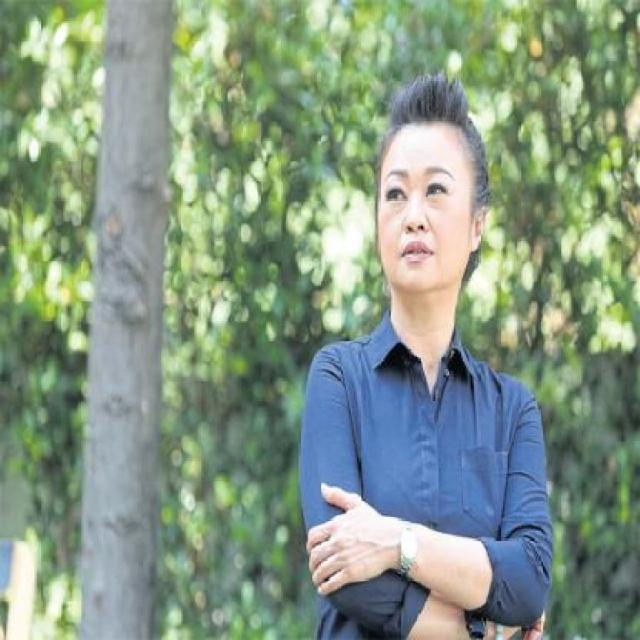sem_oculos: (363, 168, 491, 216)
